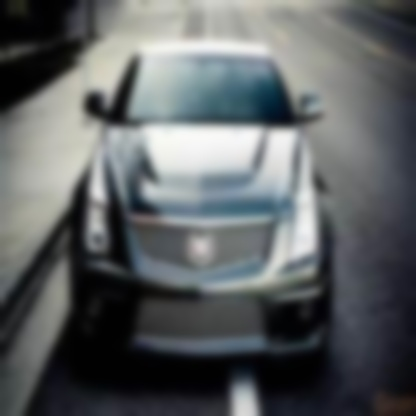Vehicle: (69, 44, 338, 366)
